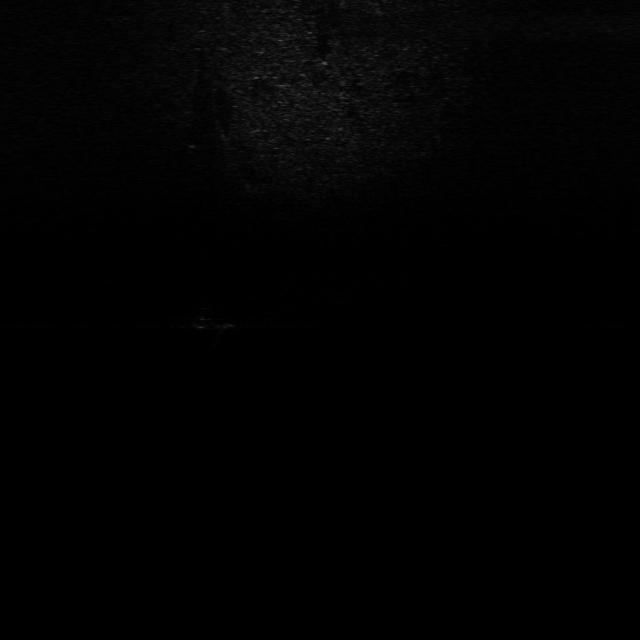human body: (184, 301, 233, 349)
